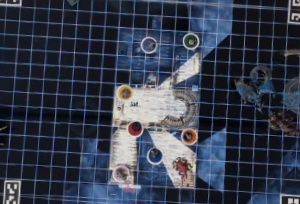blue: (143, 143, 164, 164)
green: (179, 29, 201, 49)
orange: (178, 126, 199, 146)
pink: (109, 163, 131, 184)
red: (126, 119, 144, 136)
violet: (137, 33, 159, 54)
yellow: (114, 80, 134, 99)
